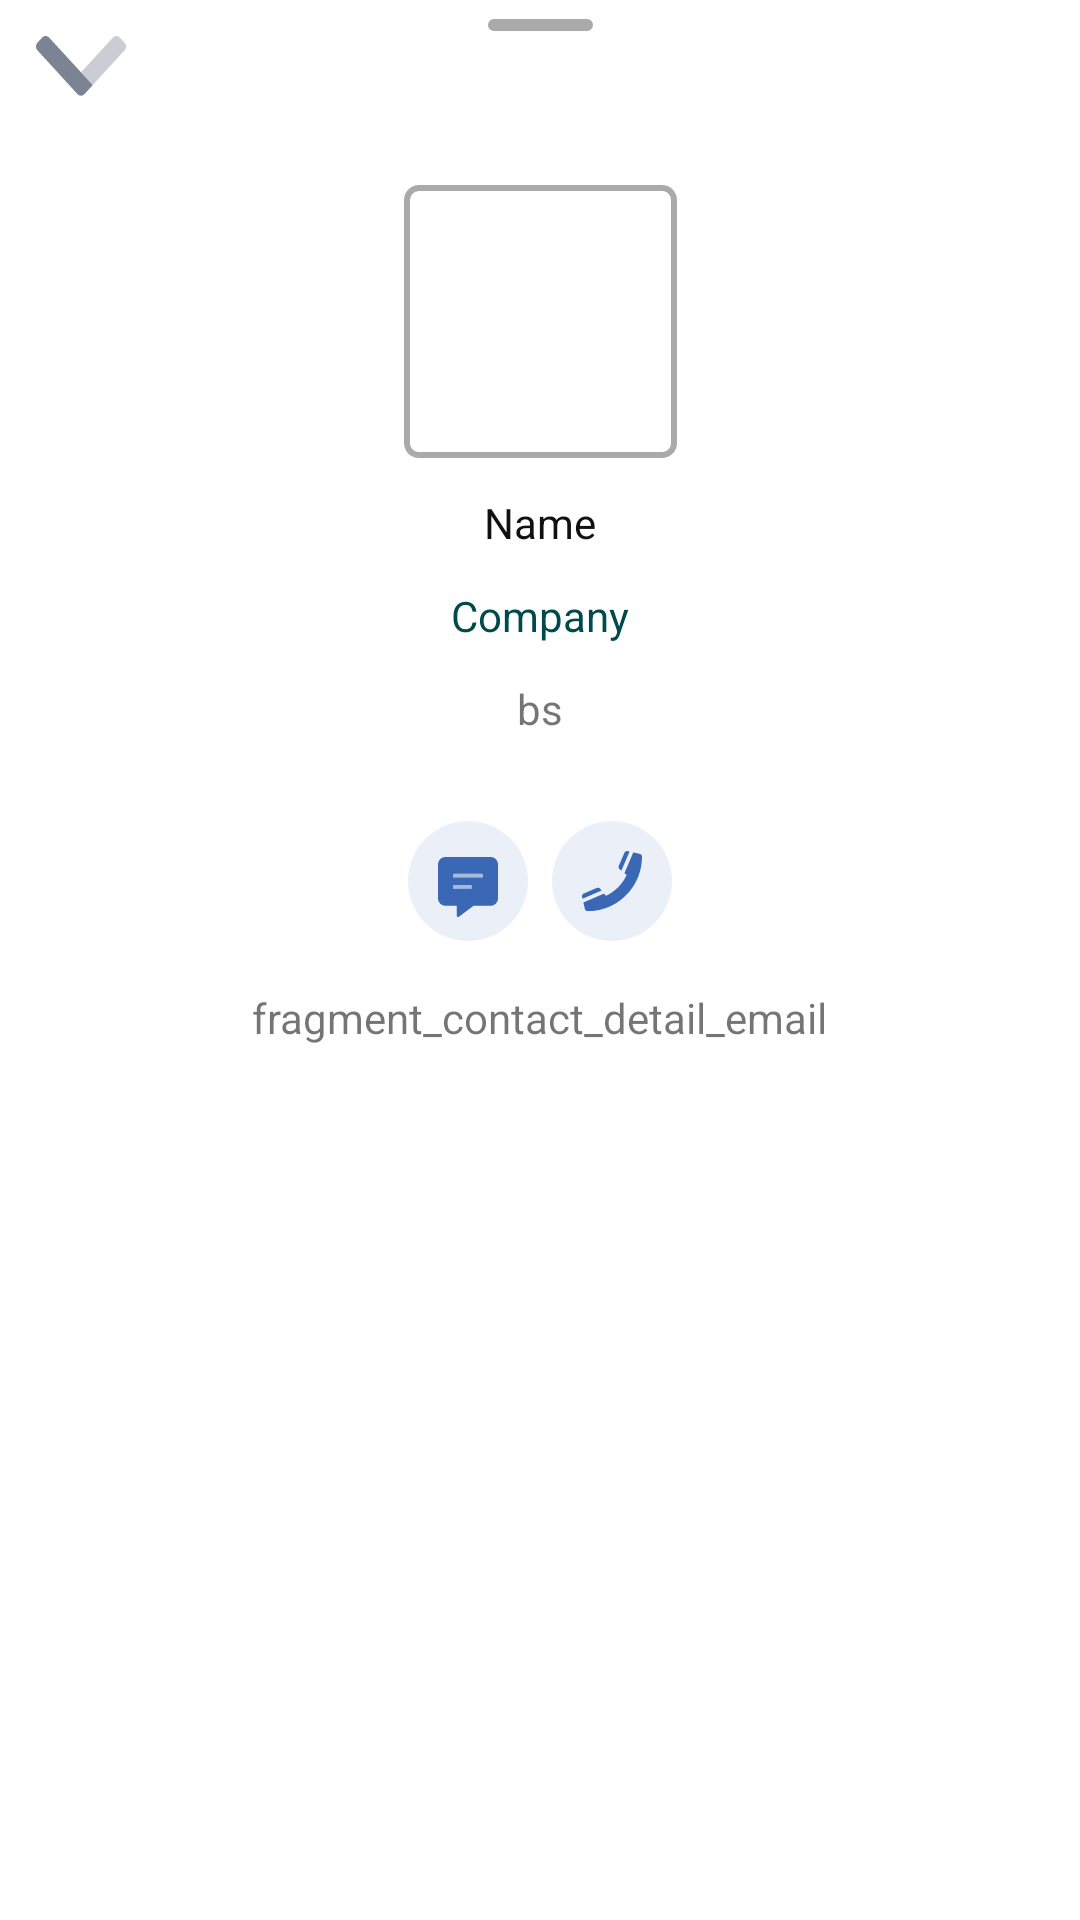

Icons on this 1080w x 1920h Android screen, each with its box as (x1, y1, x2, y2):
chat user: (438, 857, 498, 917)
